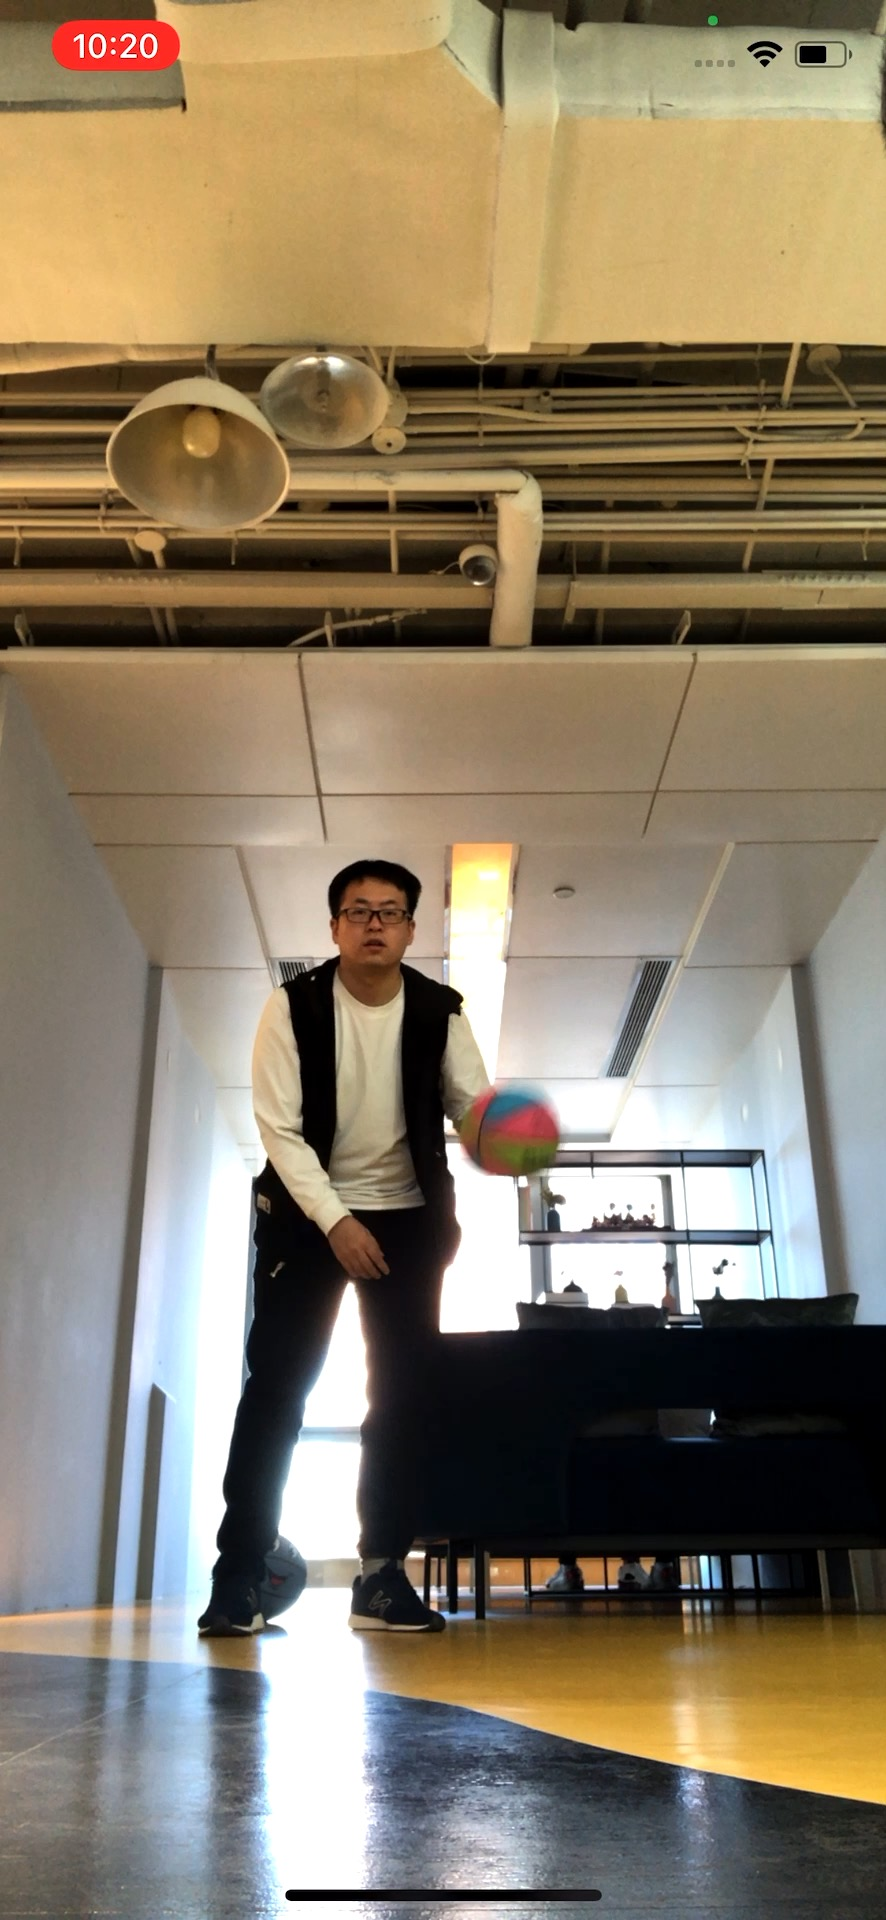ball: (465, 1082, 560, 1180)
